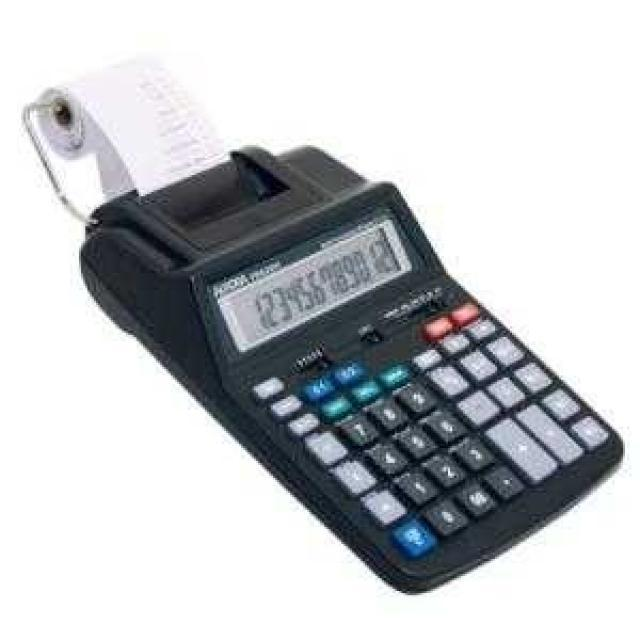Calculator: (26, 60, 619, 591)
